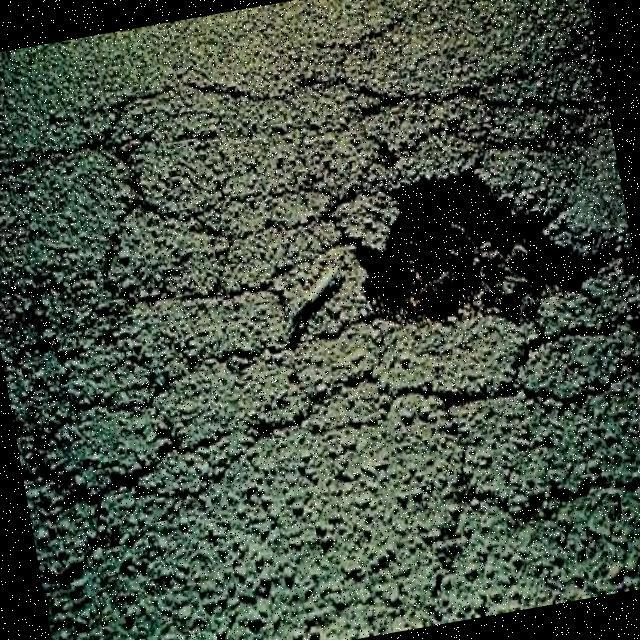Pothole: (358, 171, 603, 323)
